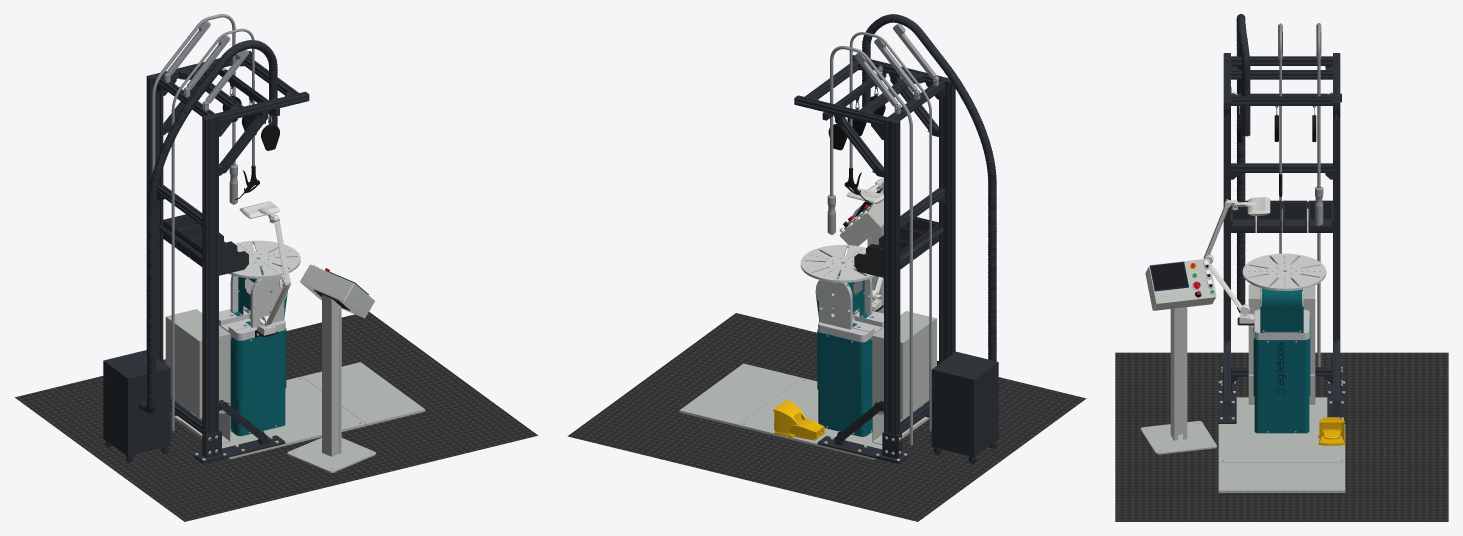
File: CNC_P200.glb
3 views of the same model, side by side, from view 1: azimuth 30°, elevation 25°; view 2: azimuth 150°, elevation 25°; view 3: azimuth 270°, elevation 25° (orthographic). The views are drawn at different scales.
Parts seen in each view (by area): view 1: CNC_Telaio_Mesh, Tappeto, CNC_Fissa_Mesh, CNC_Sollevamento_Mesh, CNC_Inclinazione_Mesh, CNC_Rotazione_Mesh; view 2: CNC_Telaio_Mesh, Tappeto, CNC_Fissa_Mesh, CNC_Sollevamento_Mesh, CNC_Inclinazione_Mesh, CNC_Rotazione_Mesh; view 3: Tappeto, CNC_Fissa_Mesh, CNC_Telaio_Mesh, CNC_Sollevamento_Mesh, CNC_Rotazione_Mesh, CNC_Inclinazione_Mesh.
Boxes of the visible parts, box(x1,y1,x2,y2) form: CNC_Telaio_Mesh: box(103, 14, 309, 463); Tappeto: box(15, 312, 537, 521); CNC_Fissa_Mesh: box(165, 264, 425, 472); CNC_Sollevamento_Mesh: box(219, 201, 290, 399); CNC_Inclinazione_Mesh: box(230, 254, 287, 327); CNC_Rotazione_Mesh: box(228, 240, 300, 278); CNC_Telaio_Mesh: box(794, 14, 998, 463); Tappeto: box(567, 313, 1086, 521); CNC_Fissa_Mesh: box(679, 188, 936, 459); CNC_Sollevamento_Mesh: box(817, 178, 883, 400); CNC_Inclinazione_Mesh: box(815, 258, 872, 329); CNC_Rotazione_Mesh: box(800, 245, 875, 282); Tappeto: box(1115, 352, 1448, 521); CNC_Fissa_Mesh: box(1140, 258, 1345, 492); CNC_Telaio_Mesh: box(1218, 14, 1345, 423); CNC_Sollevamento_Mesh: box(1203, 197, 1310, 397); CNC_Rotazione_Mesh: box(1242, 253, 1326, 290); CNC_Inclinazione_Mesh: box(1260, 268, 1303, 332).
Size of the model in its own units: 2.4 by 2.61 by 2.
20 materials, 1 textured.
